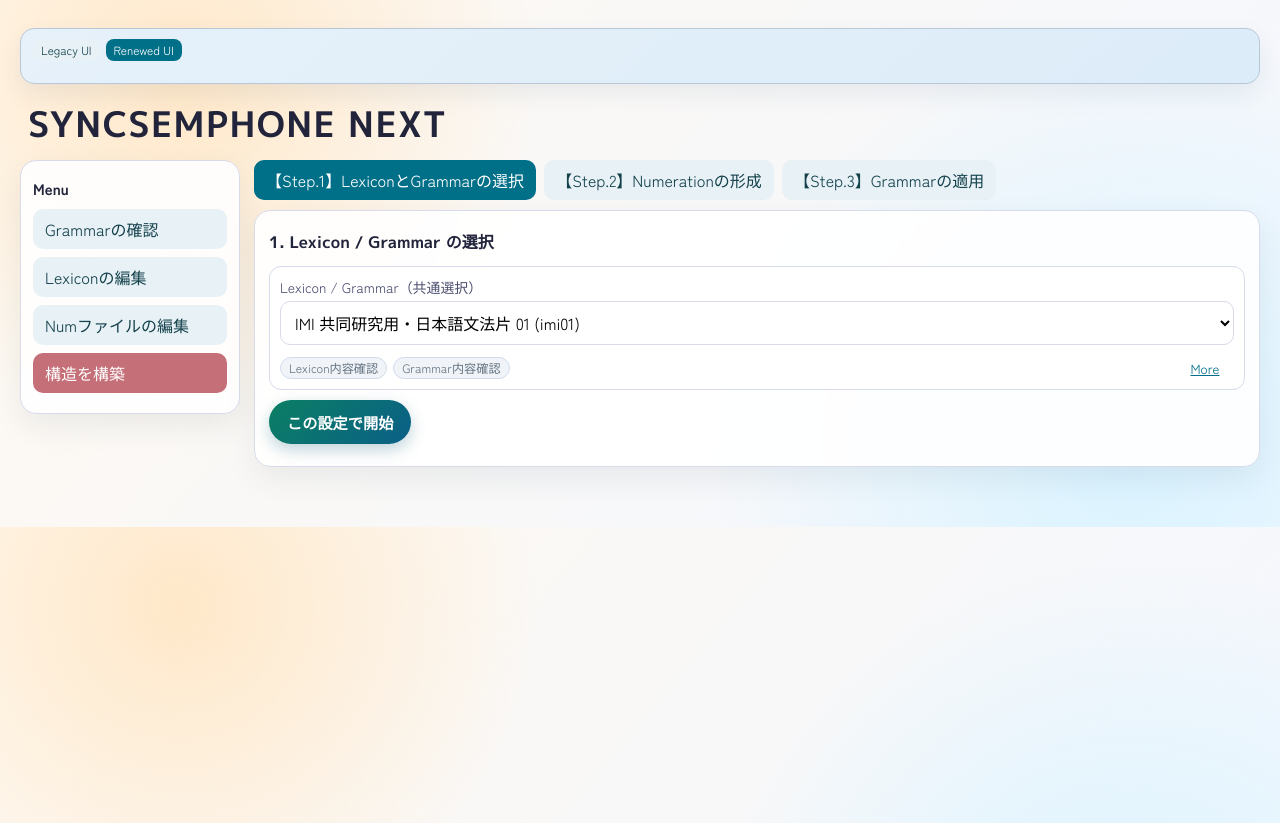
Test: App › shows lexicon reference in Lexicon build mode and updates by split result
Click the button "この設定で開始" at coordinates (340, 422), box [269,400,411,444]
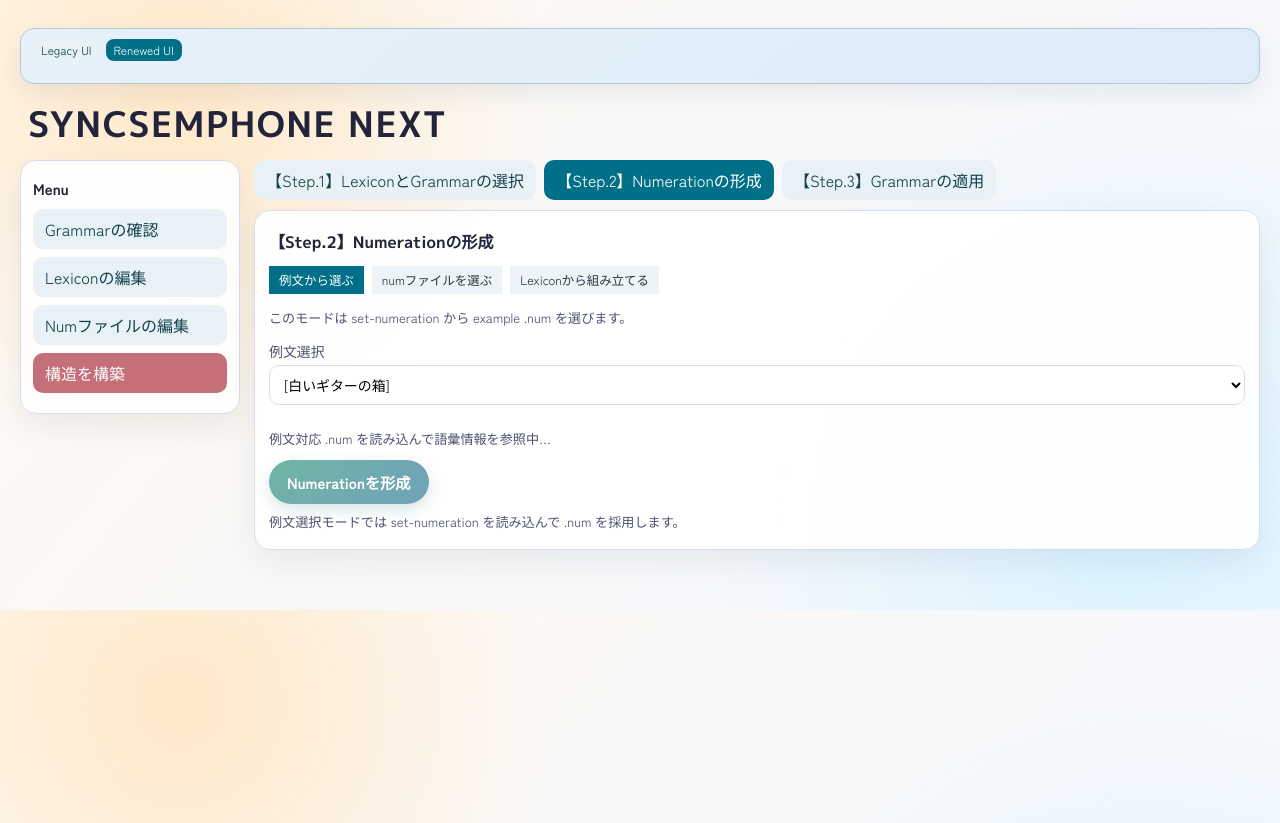
Click the button "Lexiconから組み立てる" at coordinates (585, 280), box [510,266,659,294]
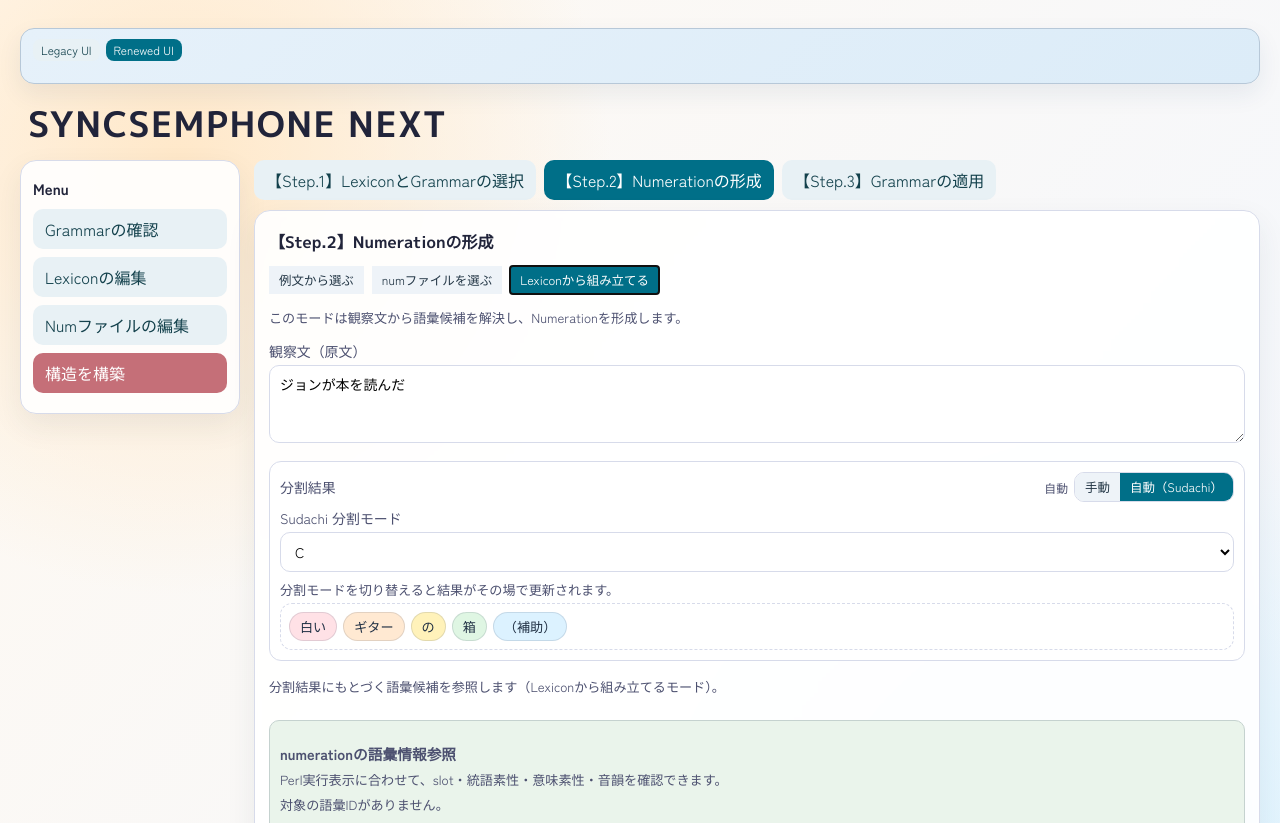
Expected: the text with test id "token-input-mode" reads "自動", [1044,478,1068,496]
Replace the text in the text box named "Sentence" with "白いギターの箱" at coordinates (757, 404), box [269,365,1245,443]
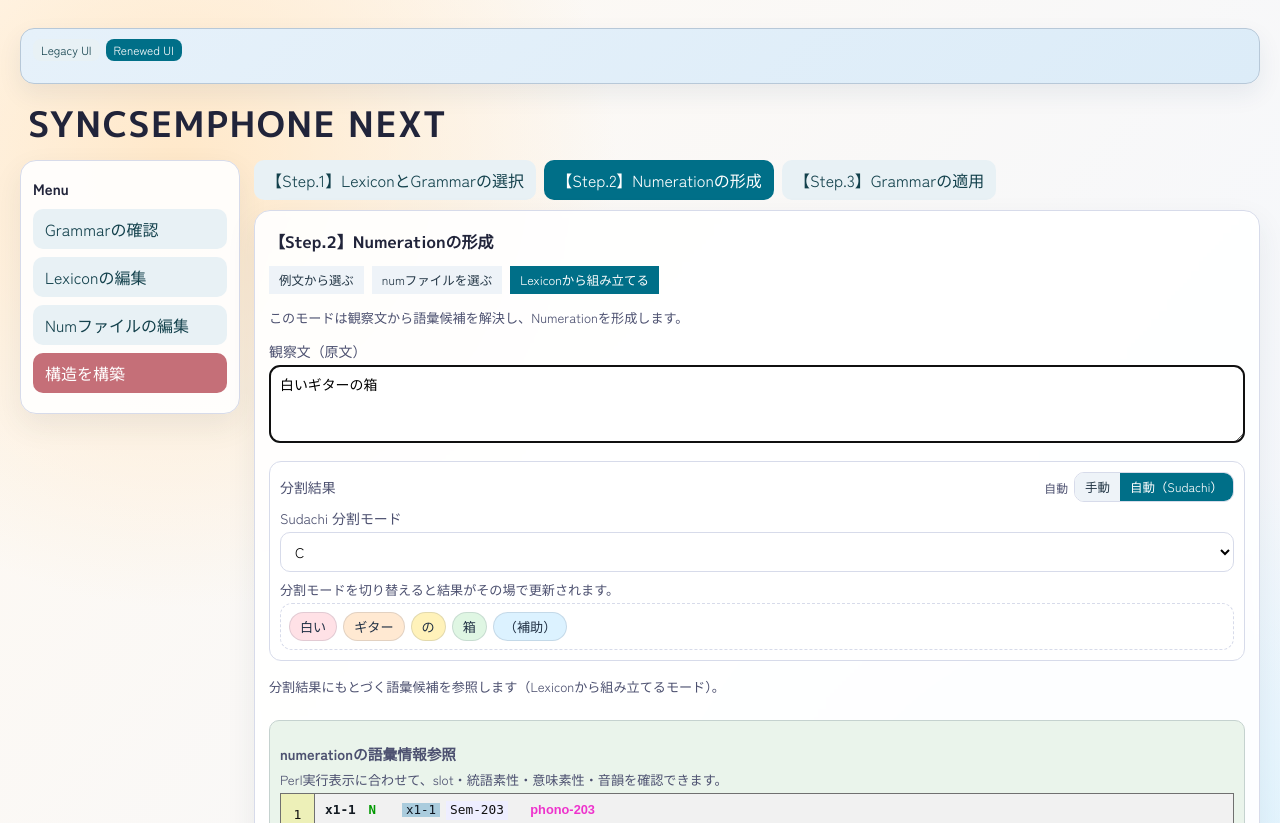
Expected: the heading "numerationの語彙情報参照" is shown, [280,743,456,764]
Expected: the element with test id "numeration-lexicon-table" shows "Sem-203", [450,802,504,817]
Select "A" in the dropdown named "Sudachi Split Mode" at coordinates (757, 552), box [280,532,1234,572]
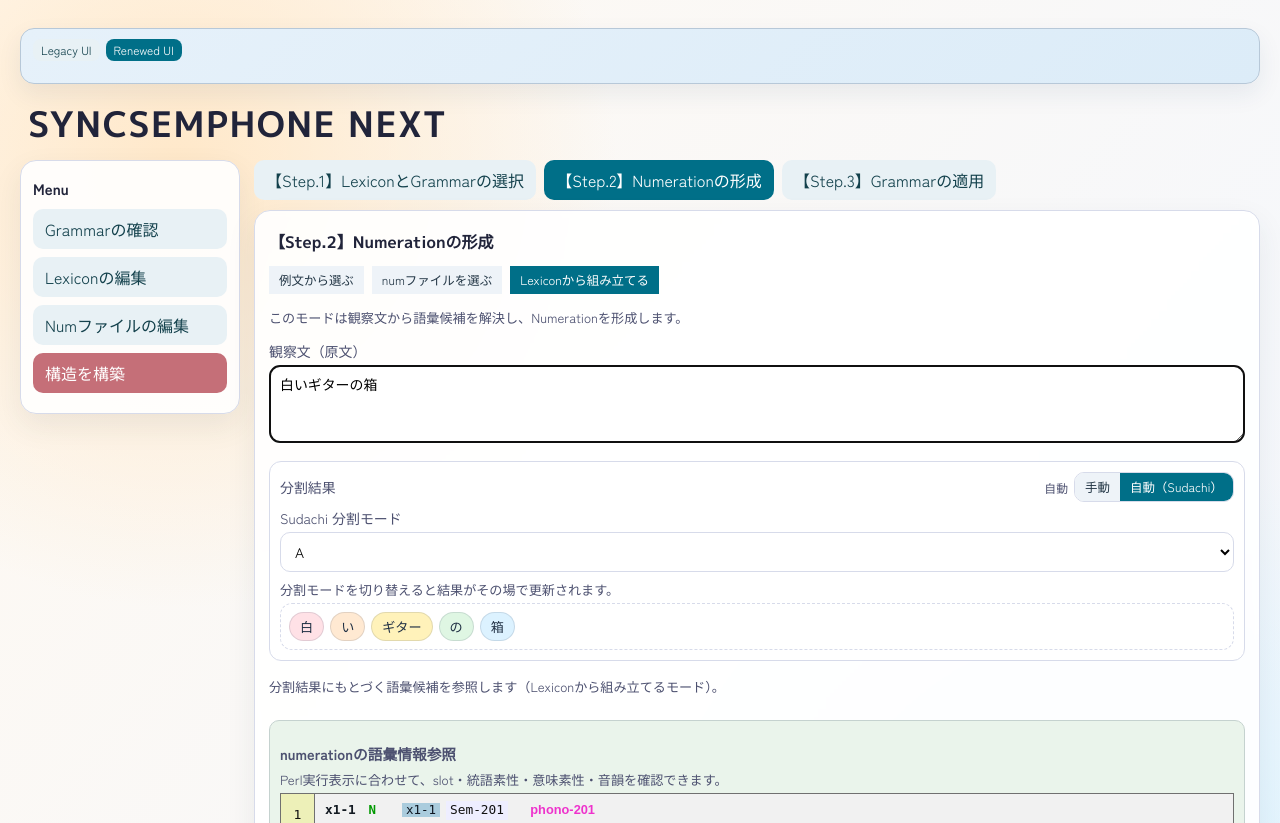
Expected: the element with test id "numeration-lexicon-table" shows "Sem-201", [450,802,504,817]
